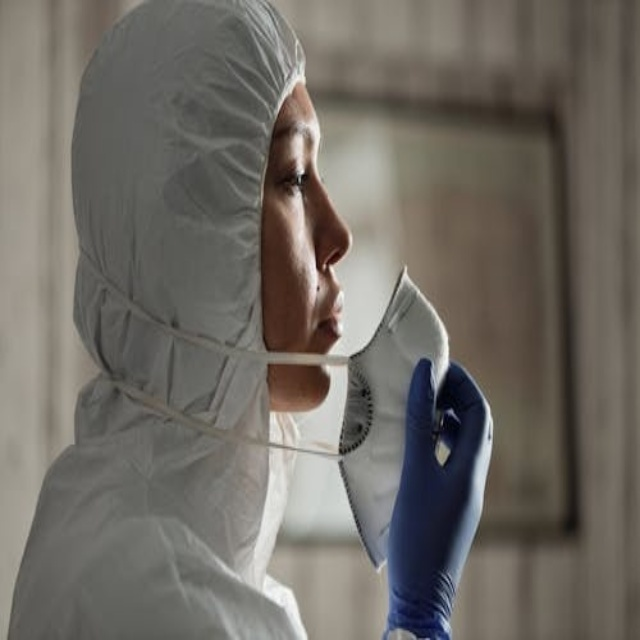Guantes: (377, 353, 493, 640)
Sin_gafas: (270, 125, 329, 195)
Sin_mascara: (288, 255, 347, 408)
